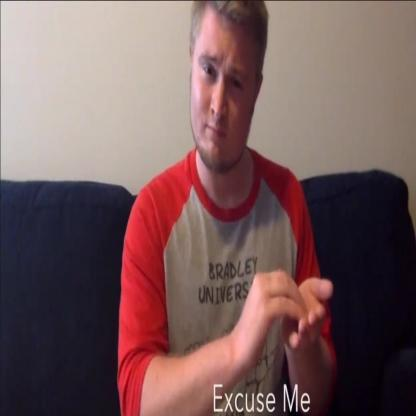ExcuseMe: (228, 258, 338, 377)
